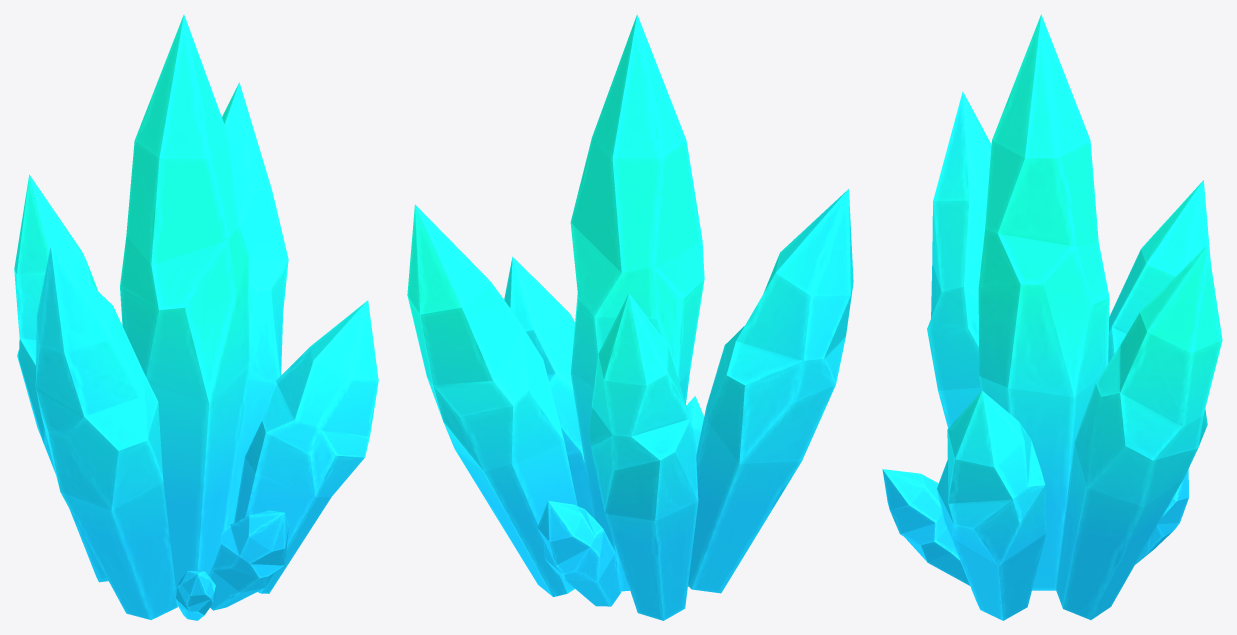
The model's file is SM_Stylized_Crystal_01_CrystalA.fbx.
The picture shows the model from 3 angles, left to right: view 1: azimuth 30°, elevation 25°; view 2: azimuth 150°, elevation 25°; view 3: azimuth 270°, elevation 25°; orthographic projection.
Parts seen in each view (by area): view 1: SM_Stylized_Crystal_01_CrystalA_LOD0; view 2: SM_Stylized_Crystal_01_CrystalA_LOD0; view 3: SM_Stylized_Crystal_01_CrystalA_LOD0.
Part boxes in pixels (x1=…): SM_Stylized_Crystal_01_CrystalA_LOD0: x1=14, y1=14, x2=378, y2=620; SM_Stylized_Crystal_01_CrystalA_LOD0: x1=407, y1=14, x2=853, y2=620; SM_Stylized_Crystal_01_CrystalA_LOD0: x1=882, y1=14, x2=1222, y2=620.
Bounding box in the file's own units: 13.81 × 11.92 × 22.2.
